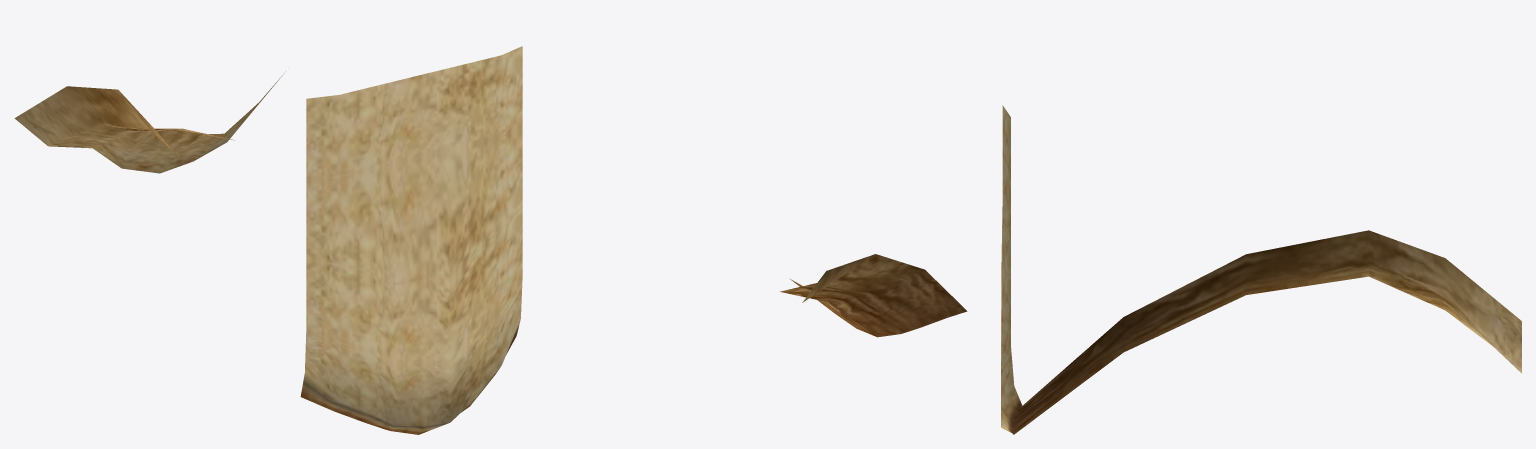
3 views of the same model, side by side, from view 1: azimuth 30°, elevation 25°; view 2: azimuth 150°, elevation 25°; view 3: azimuth 270°, elevation 25° (orthographic). The views are drawn at different scales.
Visible parts, largest first — view 1: model_Object08; view 2: model_Object08; view 3: model_Object08.
Part boxes in pixels (x1,y1,x2,y2): model_Object08: (14,46,522,434); model_Object08: (780,254,967,337); model_Object08: (1001,105,1521,434).
Bounding box in the file's own units: 1.55 × 1.93 × 2.54.
1 material, 1 textured.
